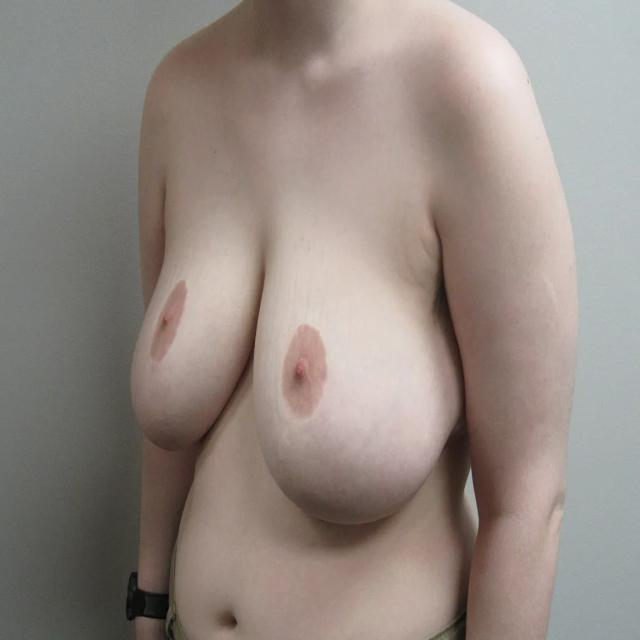Seno ileso: (249, 203, 466, 550), (126, 187, 247, 467)
